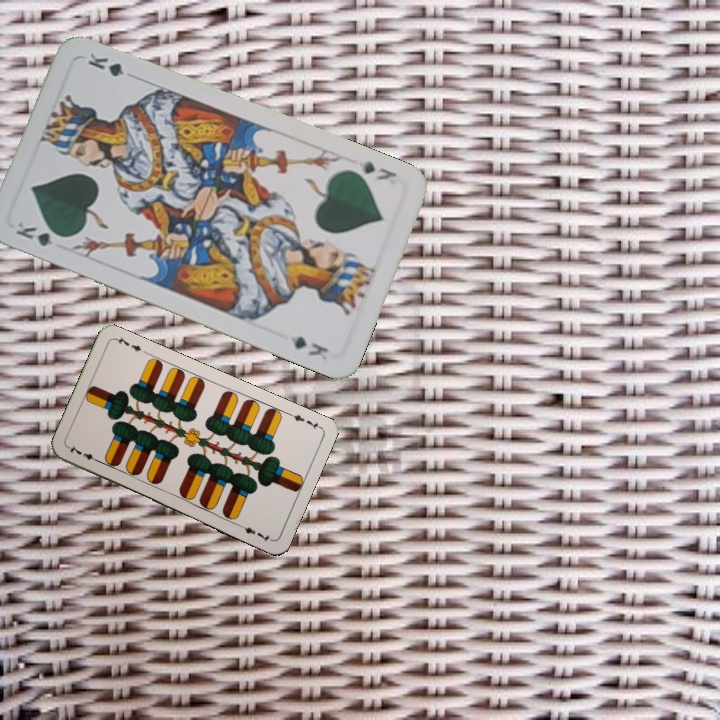E7: (65, 442, 103, 465), (285, 409, 323, 432)
GK: (11, 217, 69, 249), (353, 157, 400, 183)
